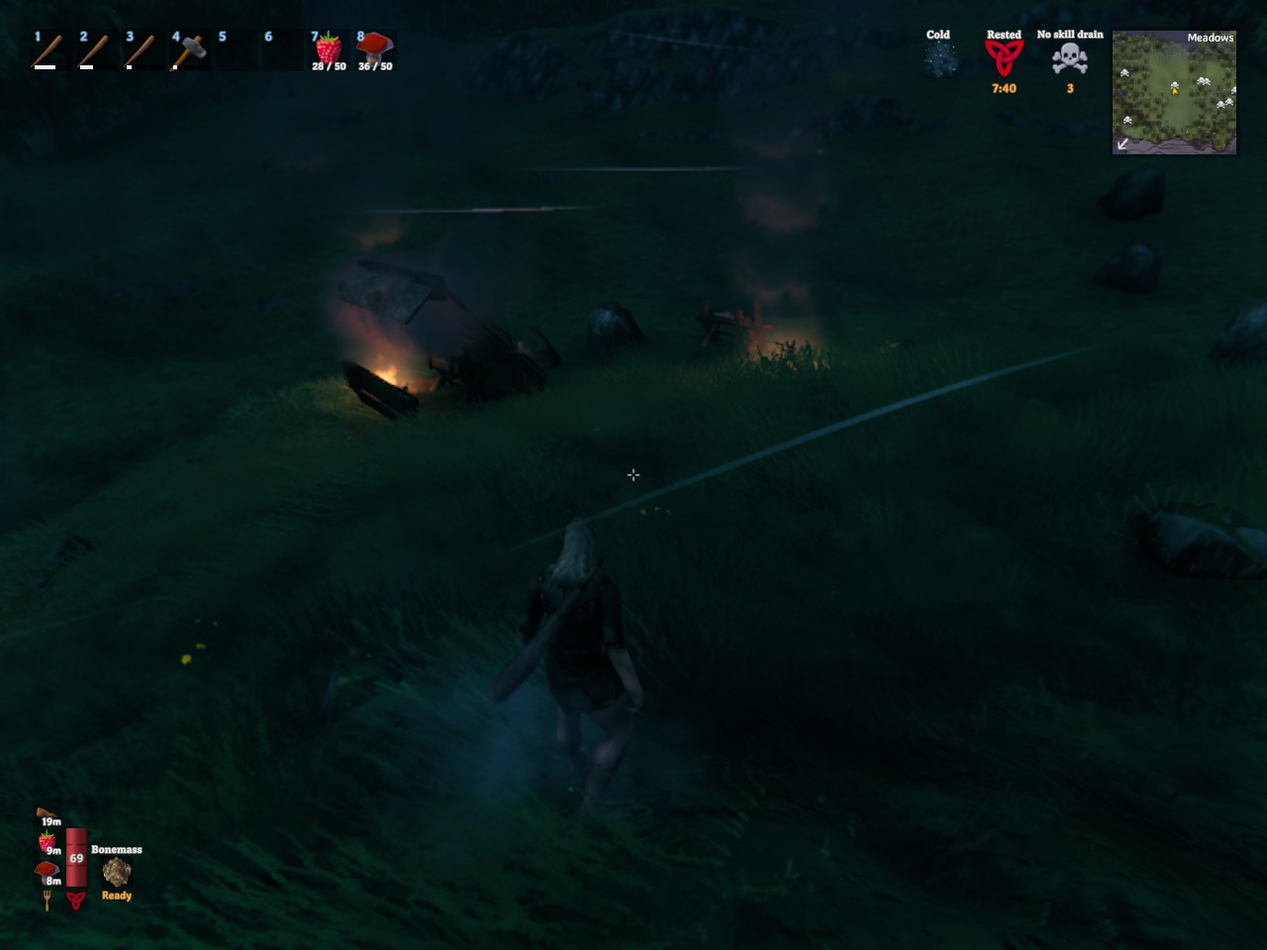Rested Buff: (979, 26, 1033, 98)
